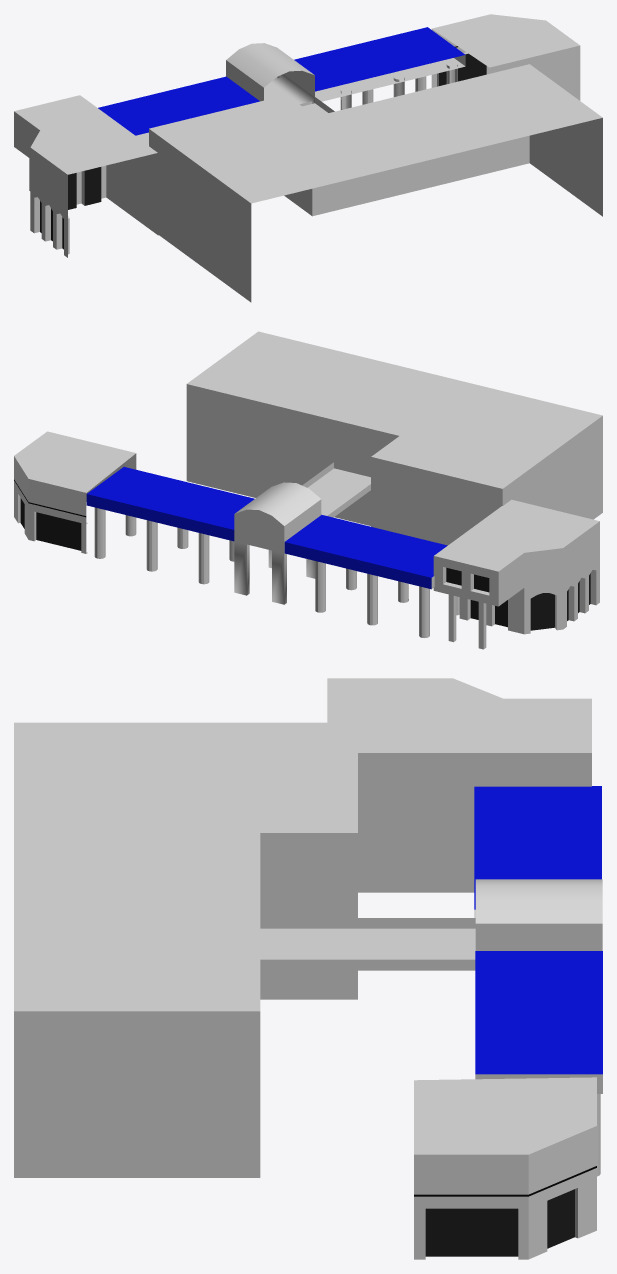
File: Edificio-3-Izquierda.fbx
3 renders of one model, top to bottom at view 1: azimuth 30°, elevation 25°; view 2: azimuth 150°, elevation 25°; view 3: azimuth 270°, elevation 25°, orthographic. The views are drawn at different scales.
Parts seen in each view (by area): view 1: Plane2; view 2: Plane2; view 3: Plane2.
Boxes of the visible parts, x1,y1,x2,y2 form: Plane2: (14, 14, 602, 302); Plane2: (14, 331, 602, 649); Plane2: (14, 678, 602, 1259).
Bounding box in the file's own units: 9478 × 1710 × 5346.
